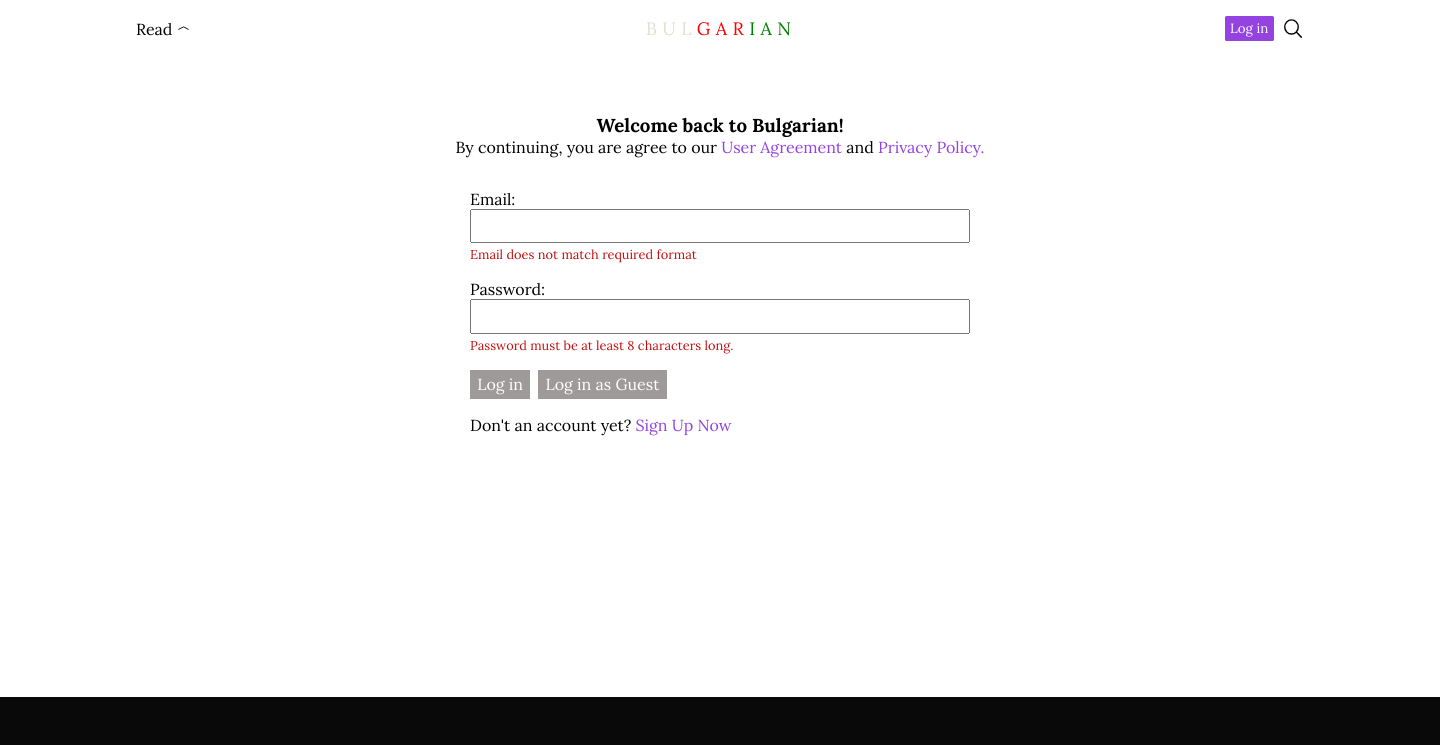
Scenario: should render LogInFormComponent › should render when the user types to hide the span errors.
Type "test@abv.bg" into the field.
click(720, 226); type("test@abv.bg")  # box x1=470 y1=209 x2=970 y2=243
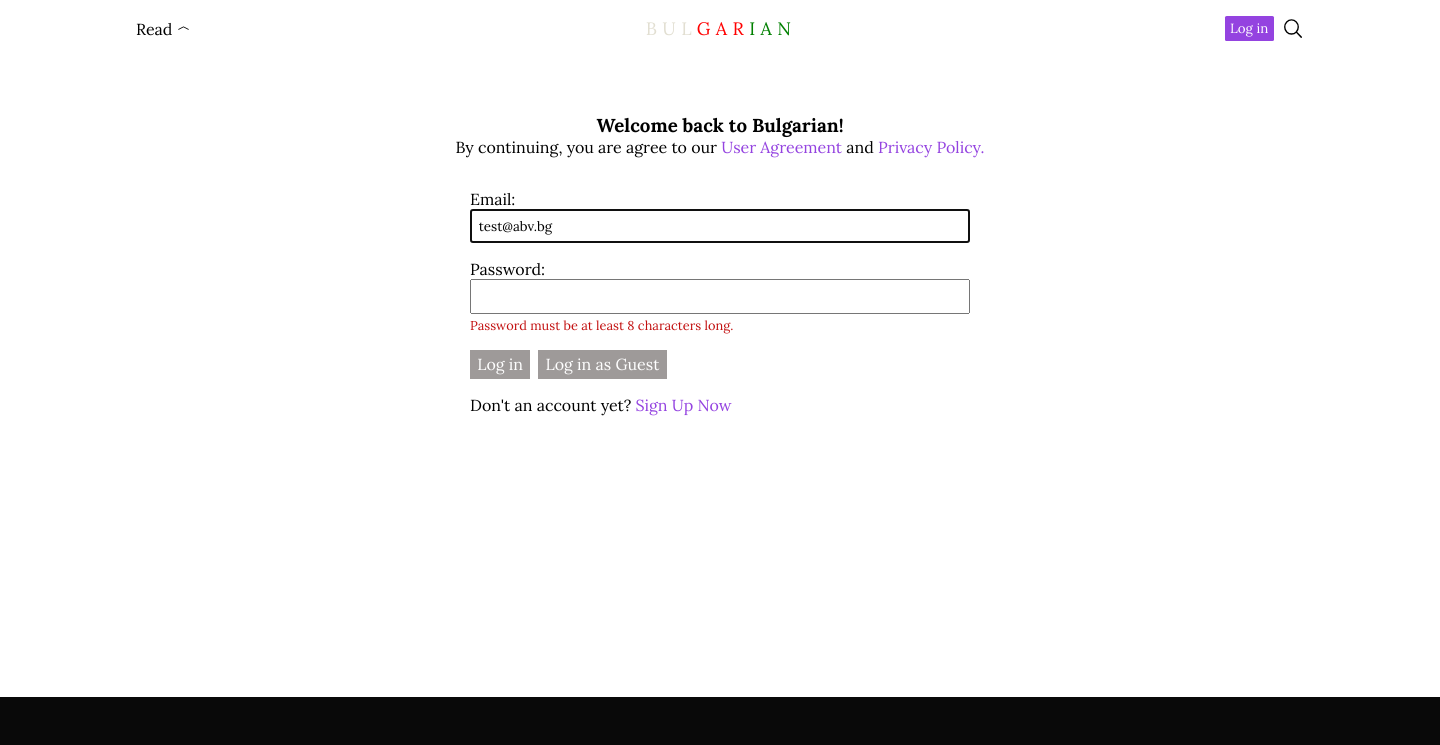
Now the text "Email does not match required format" is gone
Type "12345678" into the password field.
click(720, 296); type("12345678")  # box x1=470 y1=279 x2=970 y2=314
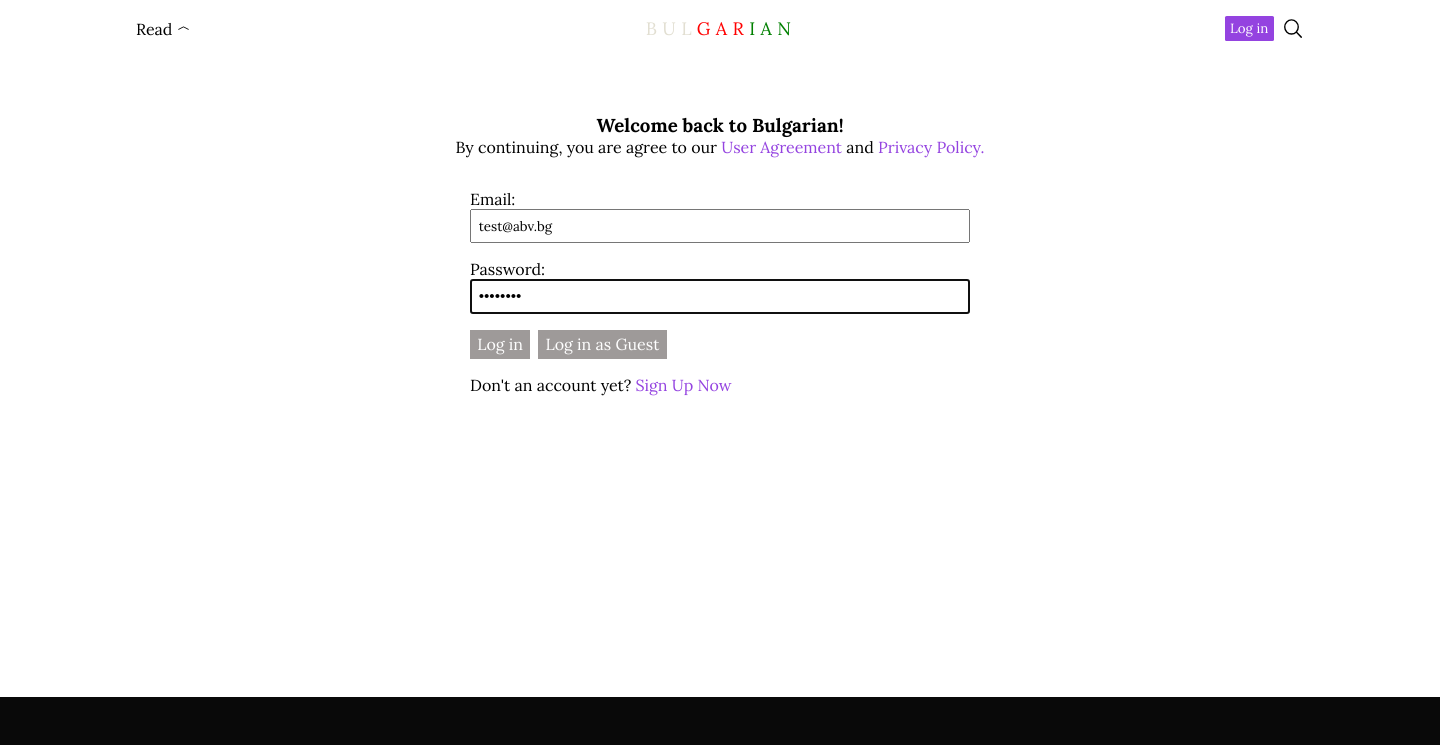
Now the text "Password must be at least 8 characters long." is gone
